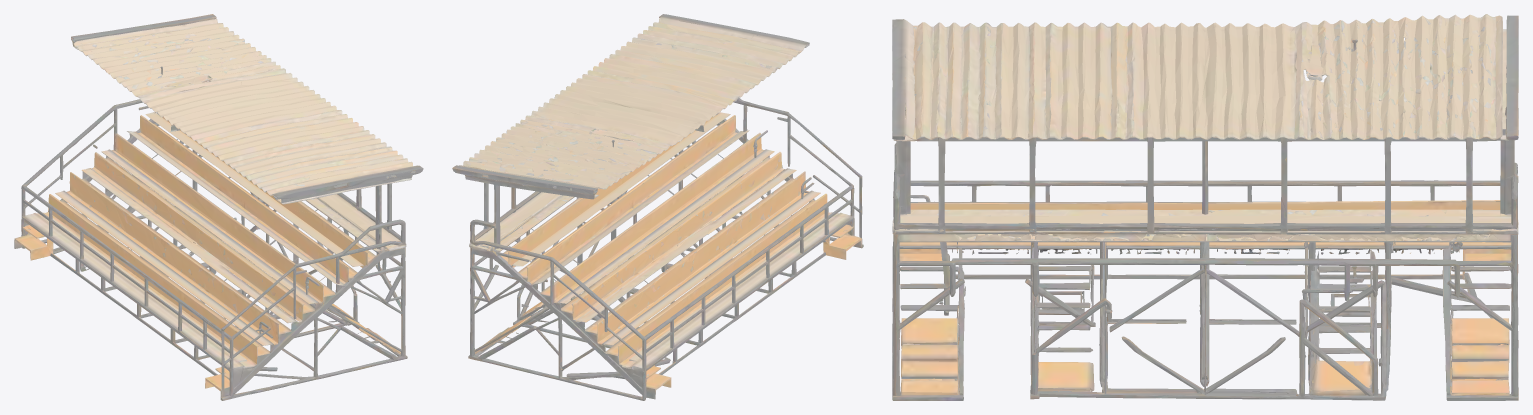
Rendered from grandstand.glb.
The picture shows the model from 3 angles, left to right: view 1: azimuth 30°, elevation 25°; view 2: azimuth 150°, elevation 25°; view 3: azimuth 270°, elevation 25°; orthographic projection. The views are drawn at different scales.
Visible parts, largest first — view 1: geometry_0; view 2: geometry_0; view 3: geometry_0.
Boxes of the visible parts, x1,y1,x2,y2 form: geometry_0: (14,14,423,400); geometry_0: (452,14,863,400); geometry_0: (892,14,1518,400).
Size of the model in its own units: 0.551 by 0.5251 by 1.
1 material, 1 textured.
